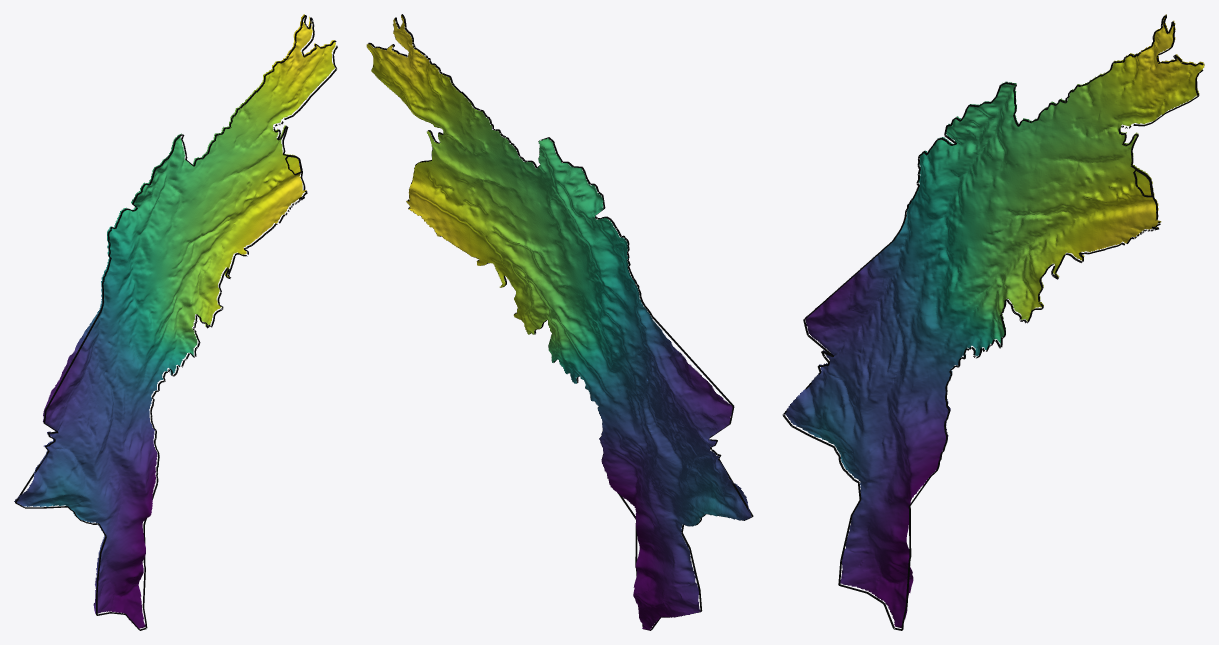
3 renders of one model, left to right at view 1: azimuth 30°, elevation 25°; view 2: azimuth 150°, elevation 25°; view 3: azimuth 330°, elevation 25°, orthographic. The views are drawn at different scales.
Visible parts, largest first — view 1: world; view 2: world; view 3: world.
Part boxes in pixels (left/top/right/bottom): world: left=14, top=14, right=337, bottom=630; world: left=366, top=14, right=753, bottom=630; world: left=782, top=14, right=1204, bottom=630.
Size of the model in its own units: 12.44 by 19.09 by 2.27.
2 materials, 1 textured.
